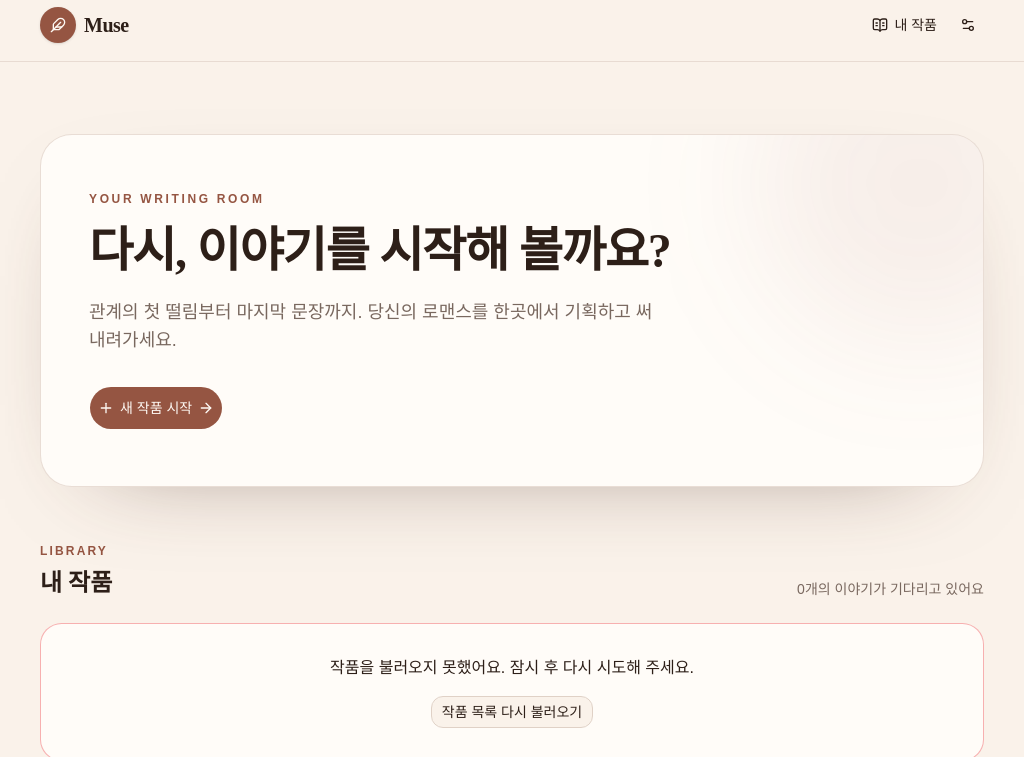
Test case: LibraryPage › retries a failed project request
Expected: the message shows "작품을 불러오지 못했어요. 잠시 후 다시 시도해 주세요.", [330,659,694,676]
Click the button "작품 목록 다시 불러오기" at {"x": 512, "y": 712}, box [431,696,593,728]
(page scrolled)
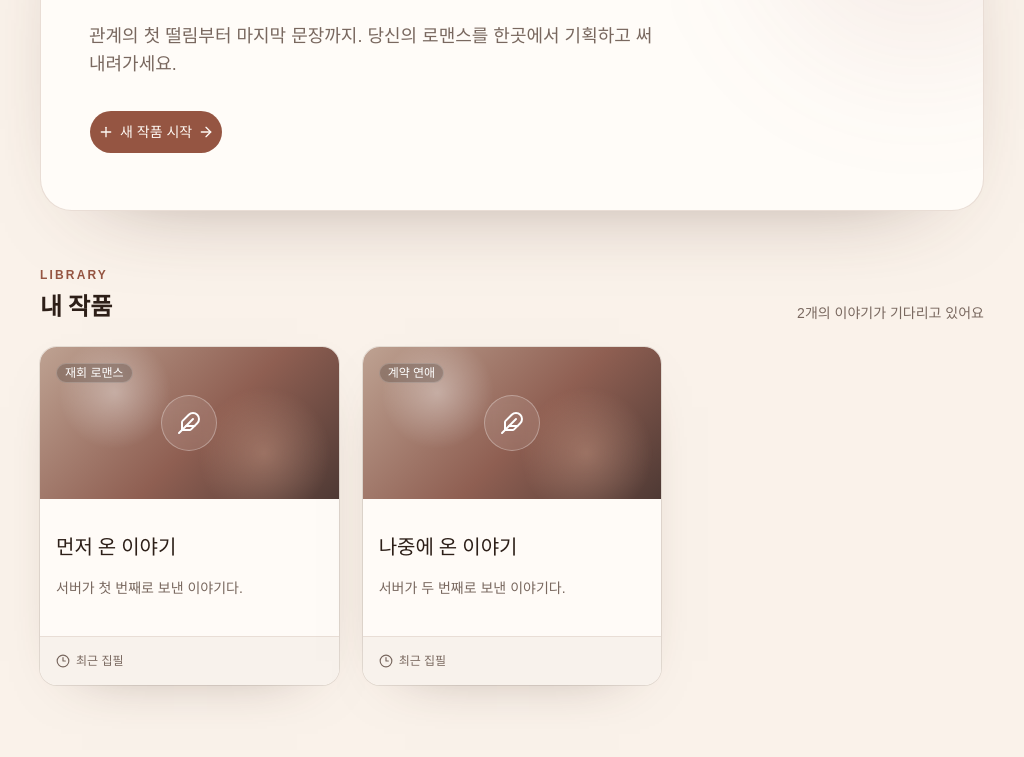
Result: the text "먼저 온 이야기" is shown at [56,536,176,558]
